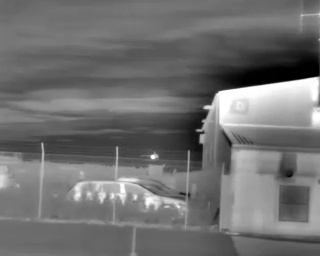HELICOPTER: (138, 149, 161, 162)
